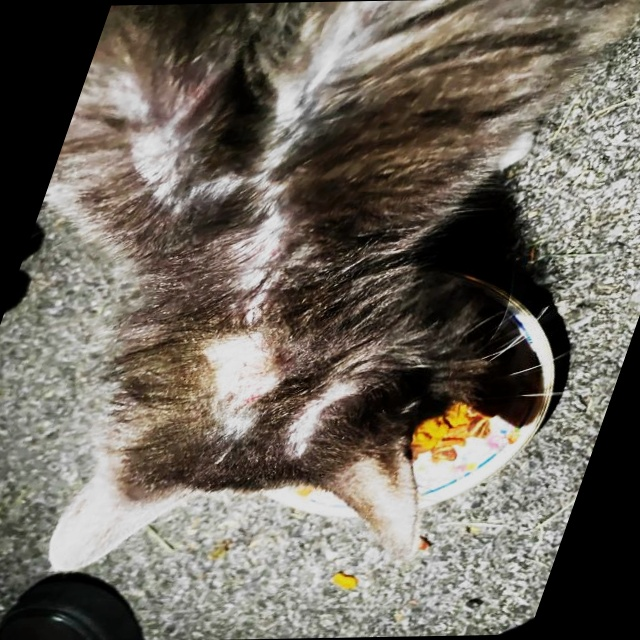hairloss: (200, 98, 336, 303), (184, 327, 297, 434), (279, 382, 351, 457)
